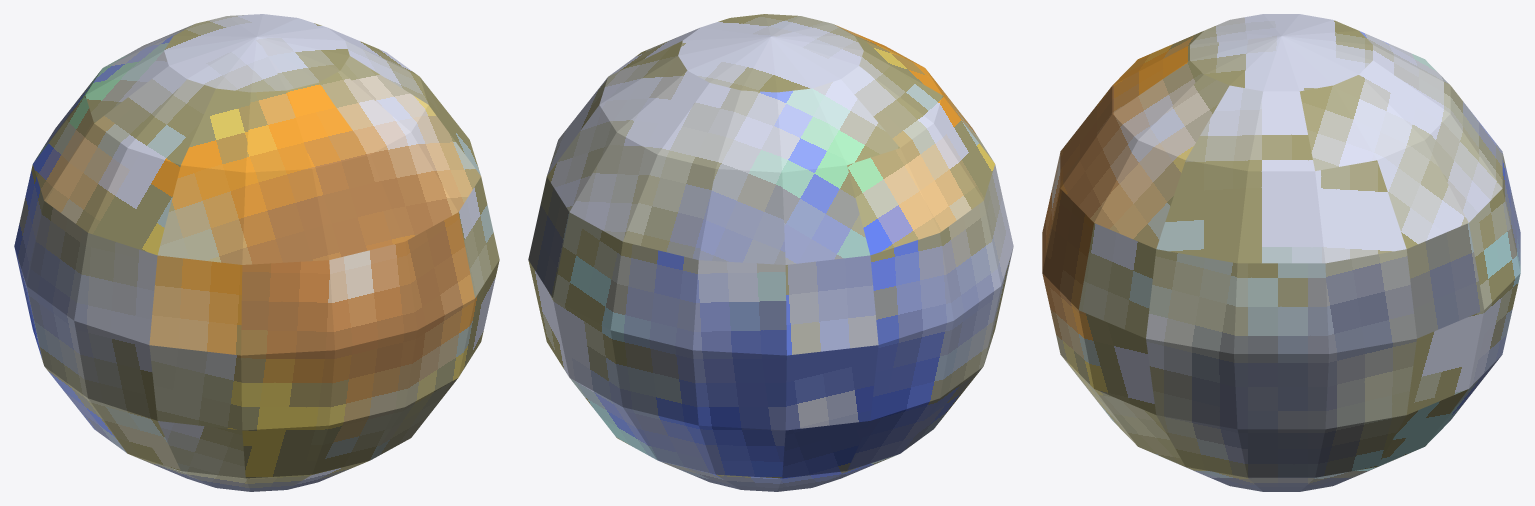
File: mercury.fbx
3 views of the same model, side by side, from view 1: azimuth 30°, elevation 25°; view 2: azimuth 150°, elevation 25°; view 3: azimuth 270°, elevation 25° (orthographic).
Visible parts, largest first — view 1: sphere; view 2: sphere; view 3: sphere.
Part boxes in pixels (x1,y1,x2,y2): sphere: (14, 14, 499, 491); sphere: (528, 14, 1013, 491); sphere: (1042, 14, 1520, 491).
Size of the model in its own units: 100 by 100 by 100.
Materials: 1 (1 with a texture image).
